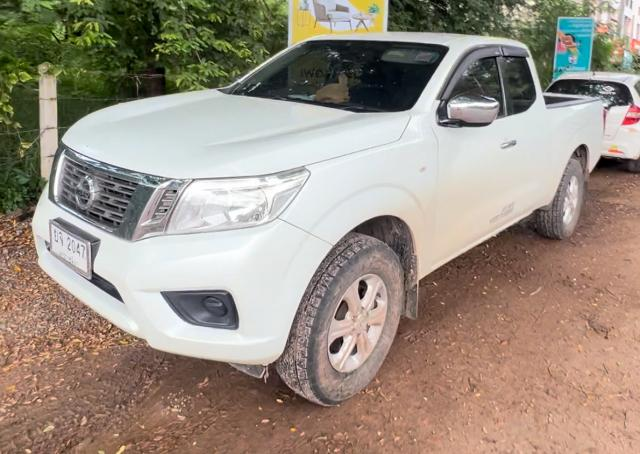pickup-truck: (27, 26, 610, 415)
